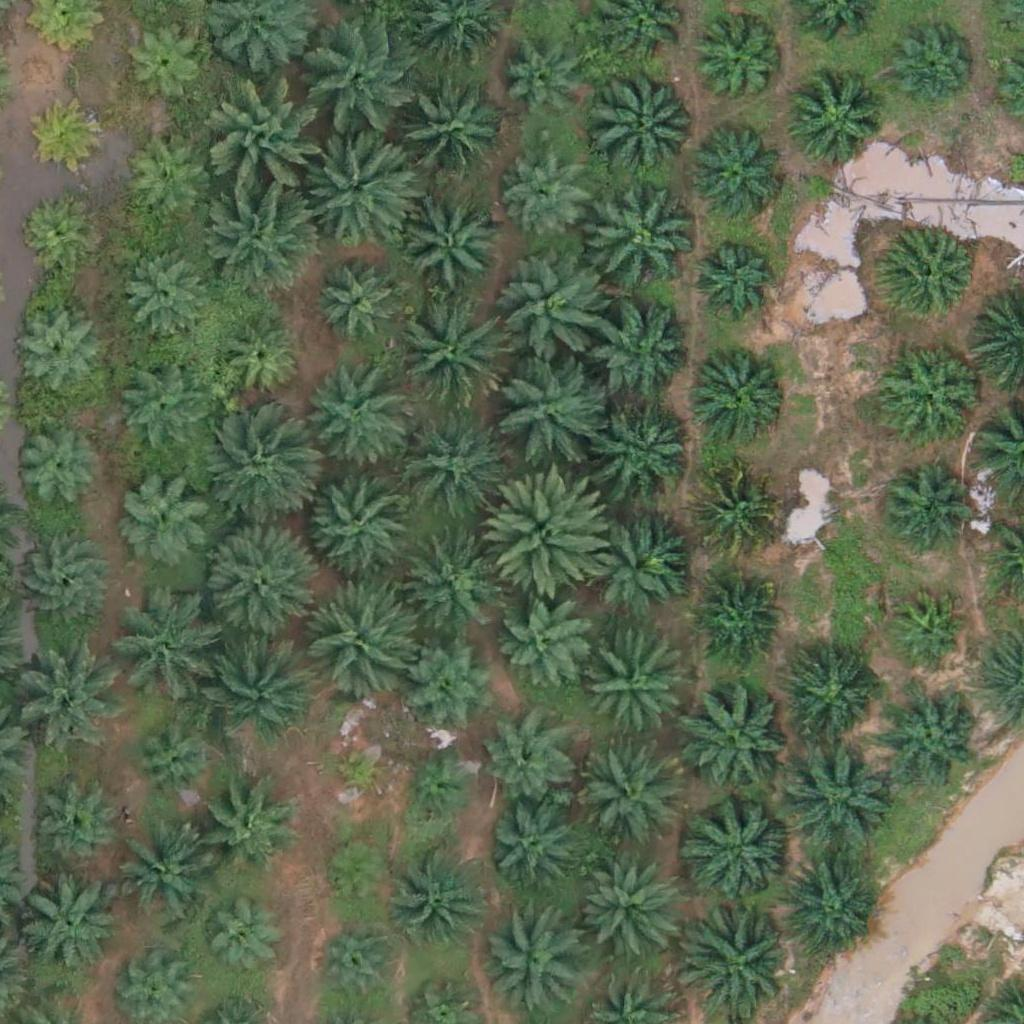Kelapa_Sawit: (488, 471, 613, 597), (490, 349, 603, 463), (391, 78, 504, 192), (779, 737, 892, 850), (680, 681, 793, 794), (684, 792, 797, 905), (392, 297, 505, 410), (396, 409, 509, 522), (303, 464, 416, 577), (200, 525, 313, 638), (584, 180, 697, 293), (308, 24, 421, 137), (207, 182, 320, 295), (497, 255, 610, 368), (200, 627, 312, 741), (590, 65, 702, 179), (213, 86, 325, 200), (683, 904, 795, 1017), (296, 365, 408, 478), (301, 582, 413, 695), (198, 416, 310, 529), (11, 633, 123, 746), (303, 129, 415, 242), (778, 858, 878, 959), (690, 342, 790, 443), (597, 401, 697, 502), (583, 638, 683, 739), (578, 750, 678, 851), (574, 858, 674, 959), (400, 530, 500, 631), (402, 631, 502, 732), (194, 779, 294, 880), (108, 828, 208, 929), (108, 600, 208, 701), (18, 876, 118, 977), (785, 72, 885, 173), (403, 194, 503, 295), (393, 845, 493, 946), (881, 343, 981, 443), (884, 688, 984, 788), (592, 308, 692, 408), (582, 508, 682, 608), (485, 910, 585, 1010), (115, 466, 215, 566), (13, 534, 113, 634), (879, 228, 979, 328), (687, 128, 787, 228), (878, 460, 966, 548), (789, 655, 877, 743), (689, 466, 777, 554), (482, 718, 570, 806), (215, 315, 303, 403), (129, 717, 217, 805), (10, 308, 98, 396), (696, 22, 784, 110), (688, 235, 776, 323), (315, 260, 403, 348), (118, 16, 206, 104), (123, 139, 211, 227), (485, 805, 572, 894), (115, 365, 202, 454), (692, 574, 779, 662), (500, 598, 587, 686), (317, 920, 404, 1008), (12, 424, 99, 512), (34, 786, 121, 874), (887, 24, 974, 112), (501, 49, 588, 137), (506, 154, 593, 242), (122, 248, 209, 336), (17, 194, 92, 270), (200, 903, 275, 979), (401, 751, 476, 827), (890, 591, 965, 667), (320, 838, 395, 914), (32, 98, 107, 174), (327, 739, 389, 802)
